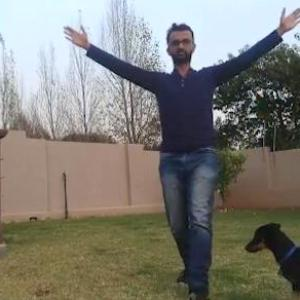takeoff: (53, 0, 300, 284)
